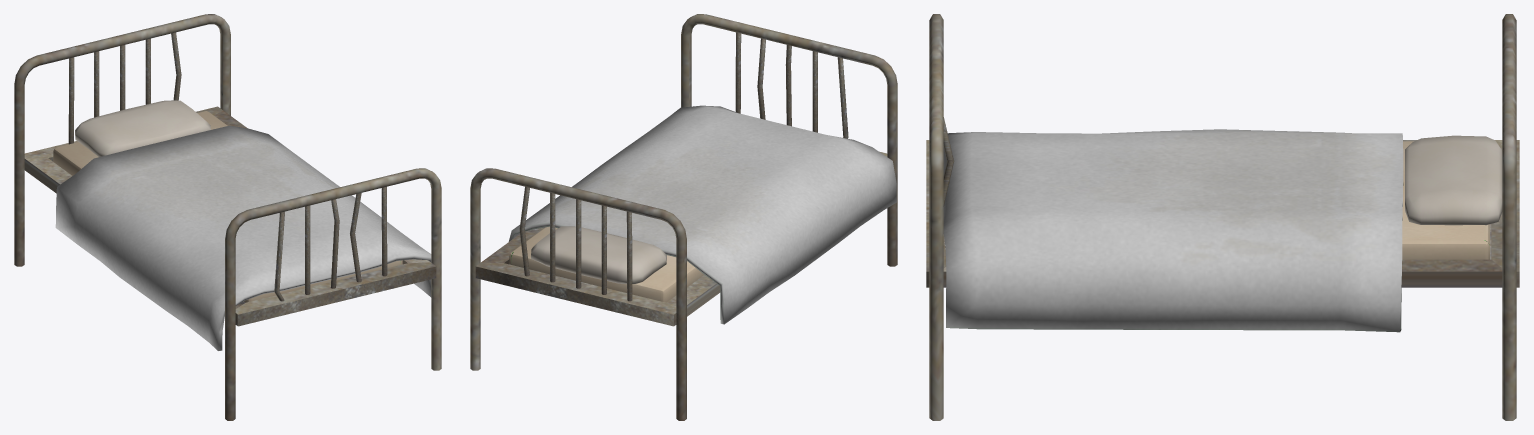
File: bed 03.FBX
The picture shows the model from 3 angles, left to right: view 1: azimuth 30°, elevation 25°; view 2: azimuth 150°, elevation 25°; view 3: azimuth 270°, elevation 25°; orthographic projection. The views are drawn at different scales.
Visible parts, largest first — view 1: Plane001, bed, Box001, matress; view 2: Plane001, bed, Box001, matress; view 3: Plane001, bed, Box001, matress.
Part boxes in pixels (left/top/right/bottom): Plane001: left=55, top=125, right=431, bottom=350; bed: left=14, top=14, right=441, bottom=420; Box001: left=75, top=100, right=210, bottom=156; matress: left=53, top=111, right=402, bottom=302; Plane001: left=508, top=105, right=896, bottom=324; bed: left=470, top=14, right=897, bottom=420; Box001: left=531, top=226, right=666, bottom=283; matress: left=509, top=226, right=703, bottom=302; Plane001: left=943, top=129, right=1403, bottom=332; bed: left=926, top=14, right=1519, bottom=420; Box001: left=1405, top=135, right=1502, bottom=225; matress: left=1402, top=141, right=1489, bottom=259.
Bounding box in the file's own units: 1.24 × 1.08 × 2.1.
